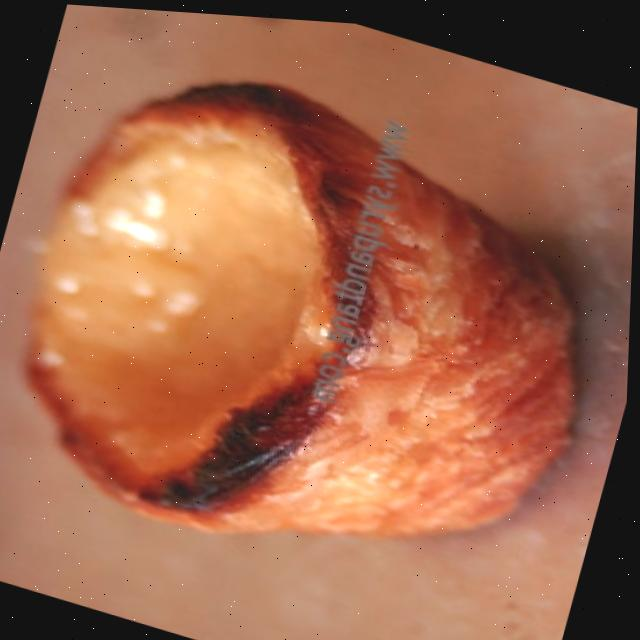炸货点心: (0, 12, 640, 618)
蛋糕甜品: (0, 12, 640, 618)
